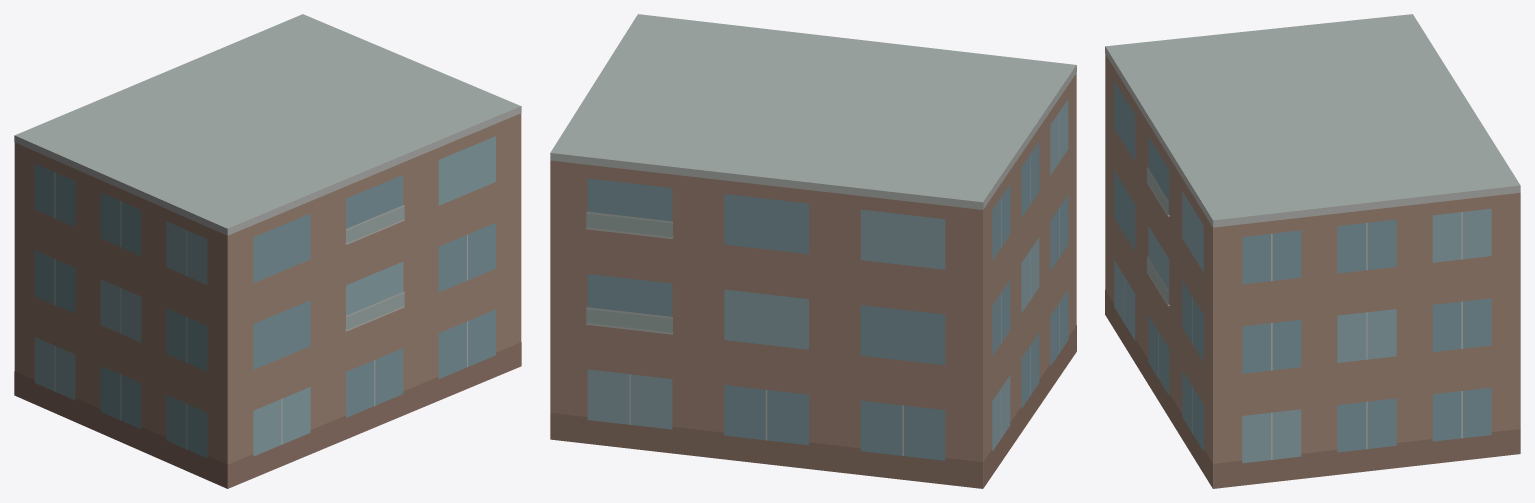
Rendered from survey-upis-32921071.glb.
3 renders of one model, left to right at view 1: azimuth 30°, elevation 25°; view 2: azimuth 150°, elevation 25°; view 3: azimuth 270°, elevation 25°, orthographic. The views are drawn at different scales.
Visible parts, largest first — view 1: survey-upis-32921071.tmp; view 2: survey-upis-32921071.tmp; view 3: survey-upis-32921071.tmp.
Part boxes in pixels (bbox=[...]): survey-upis-32921071.tmp: bbox=[14, 14, 521, 488]; survey-upis-32921071.tmp: bbox=[550, 14, 1076, 488]; survey-upis-32921071.tmp: bbox=[1105, 14, 1520, 488].
Size of the model in its own units: 15.11 by 9.15 by 12.85.
